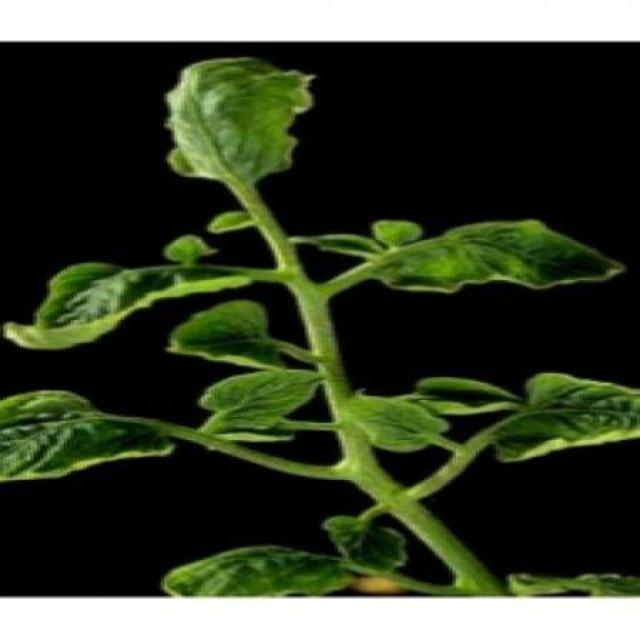Yellow Leaf Curl Virus: (180, 124, 640, 428)
